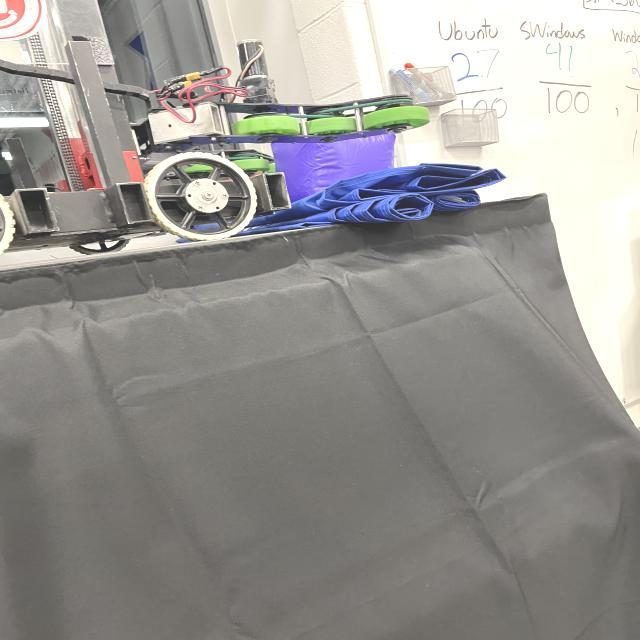frc_cube: (270, 131, 402, 201)
